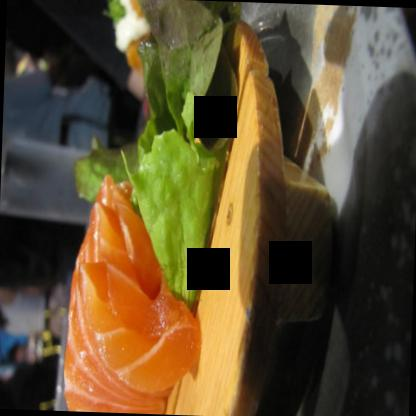salmon: (62, 188, 212, 415)
